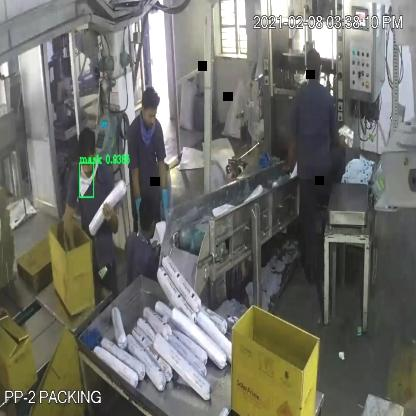glove: (160, 177, 175, 235)
no_glove: (55, 192, 83, 262), (100, 188, 124, 242)
